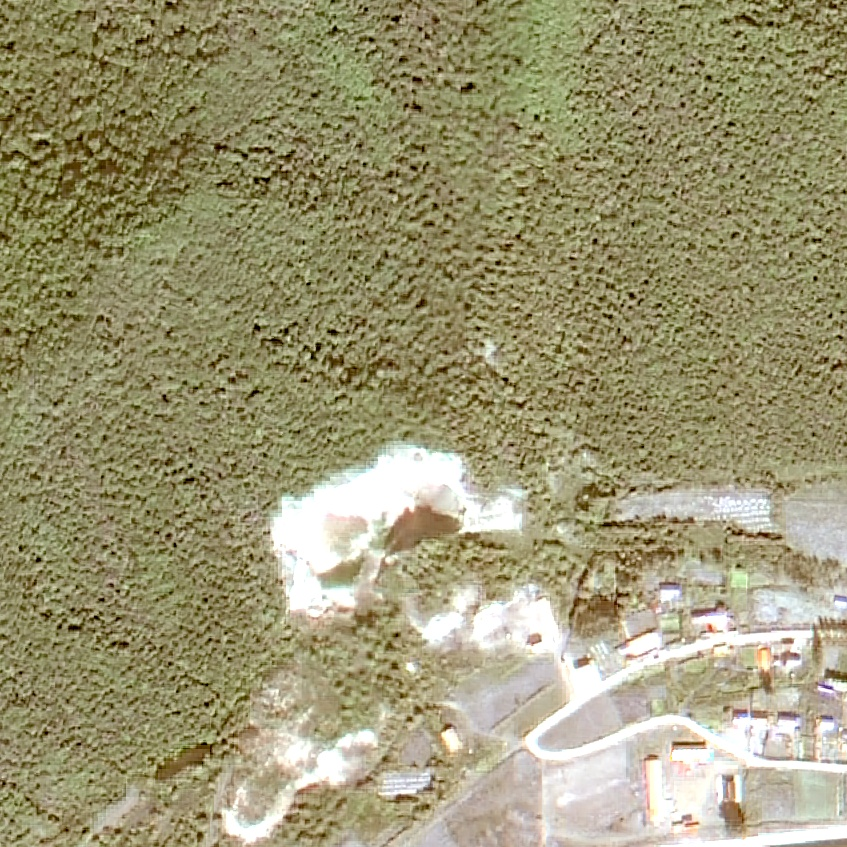slope: (261, 427, 561, 661), (216, 658, 381, 841)
